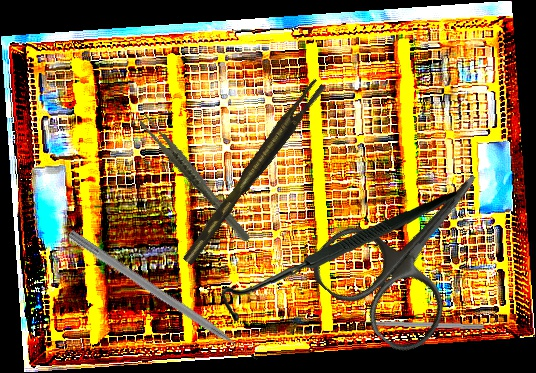Chopper: (352, 312, 485, 330)
Hook Surgical: (219, 180, 459, 333)
Iris Scissors: (302, 131, 529, 362)
Pusher: (65, 228, 261, 367)
Tissue Forceps: (173, 77, 332, 266), (135, 98, 253, 259)
